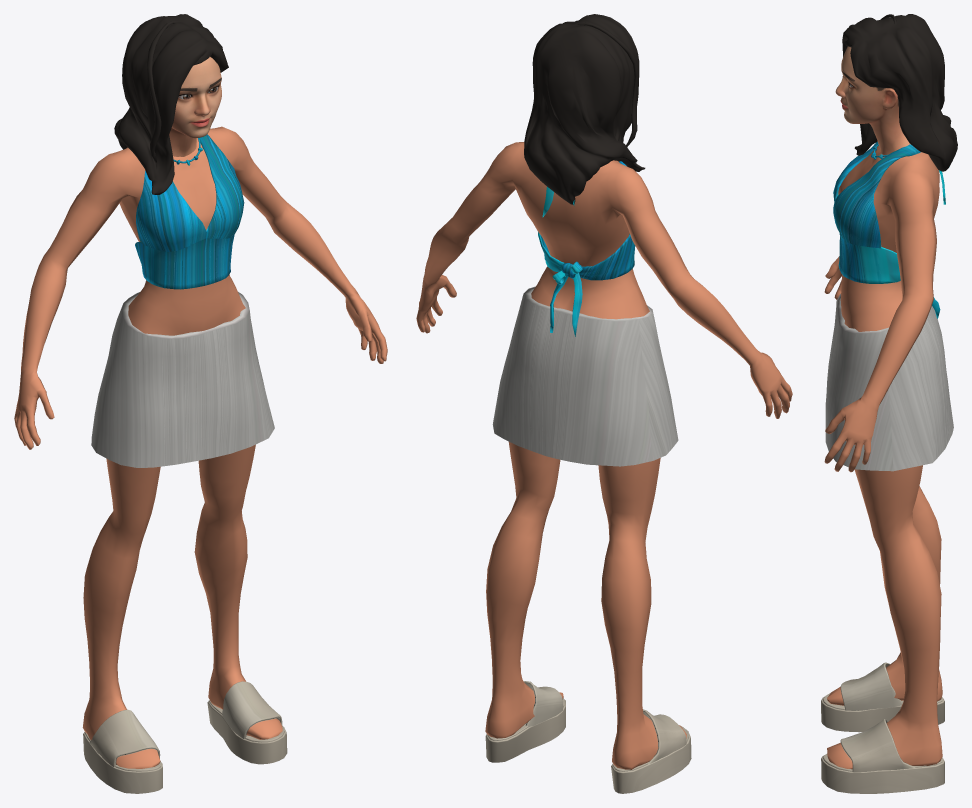
File: wife.fbx
3 renders of one model, left to right at view 1: azimuth 30°, elevation 25°; view 2: azimuth 150°, elevation 25°; view 3: azimuth 270°, elevation 25°, orthographic.
Visible parts, largest first — view 1: Wolf3D_Body, Wolf3D_Outfit_Bottom, Wolf3D_Hair, Wolf3D_Outfit_Top, Wolf3D_Outfit_Footwear, Wolf3D_Head; view 2: Wolf3D_Body, Wolf3D_Outfit_Bottom, Wolf3D_Hair, Wolf3D_Outfit_Footwear, Wolf3D_Outfit_Top; view 3: Wolf3D_Body, Wolf3D_Outfit_Bottom, Wolf3D_Hair, Wolf3D_Outfit_Footwear, Wolf3D_Outfit_Top, Wolf3D_Head.
Part boxes in pixels (<box>): Wolf3D_Body: <box>14,126,387,768</box>; Wolf3D_Outfit_Bottom: <box>91,292,274,467</box>; Wolf3D_Hair: <box>114,14,228,194</box>; Wolf3D_Outfit_Top: <box>135,134,244,289</box>; Wolf3D_Outfit_Footwear: <box>83,681,287,793</box>; Wolf3D_Head: <box>169,57,221,156</box>; Wolf3D_Body: <box>416,142,792,769</box>; Wolf3D_Outfit_Bottom: <box>492,286,678,466</box>; Wolf3D_Hair: <box>524,14,645,204</box>; Wolf3D_Outfit_Footwear: <box>485,681,691,793</box>; Wolf3D_Outfit_Top: <box>538,161,635,336</box>; Wolf3D_Body: <box>824,145,942,769</box>; Wolf3D_Outfit_Bottom: <box>825,294,953,471</box>; Wolf3D_Hair: <box>842,14,957,171</box>; Wolf3D_Outfit_Footwear: <box>821,662,944,793</box>; Wolf3D_Outfit_Top: <box>833,141,949,318</box>; Wolf3D_Head: <box>835,46,910,154</box>.
Bounding box in the file's own units: 0.9279 × 1.79 × 0.3038.
Materials: 8 (8 with a texture image).
